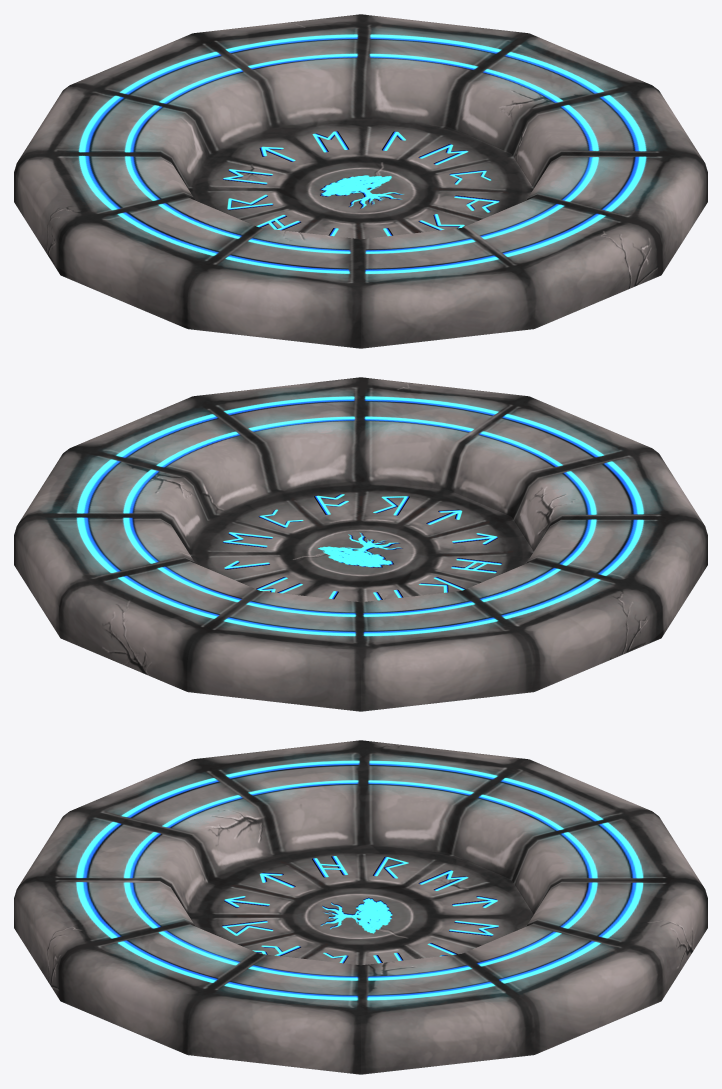
Rendered from stoneplatform_blue.glb.
3 renders of one model, top to bottom at view 1: azimuth 30°, elevation 25°; view 2: azimuth 150°, elevation 25°; view 3: azimuth 270°, elevation 25°, orthographic.
Parts seen in each view (by area): view 1: Portal_StonePlatform-Blue, Portal_StonePlatform-Inscryption-Blue; view 2: Portal_StonePlatform-Blue, Portal_StonePlatform-Inscryption-Blue; view 3: Portal_StonePlatform-Blue, Portal_StonePlatform-Inscryption-Blue.
Part boxes in pixels (x1,y1,x2,y2): Portal_StonePlatform-Blue: (14,14,707,348); Portal_StonePlatform-Inscryption-Blue: (223,131,499,236); Portal_StonePlatform-Blue: (14,377,707,711); Portal_StonePlatform-Inscryption-Blue: (222,494,501,600); Portal_StonePlatform-Blue: (14,740,707,1074); Portal_StonePlatform-Inscryption-Blue: (222,856,498,963).
Bounding box in the file's own units: 5.5 × 0.4204 × 5.5.
Materials: 2 (2 with a texture image).
